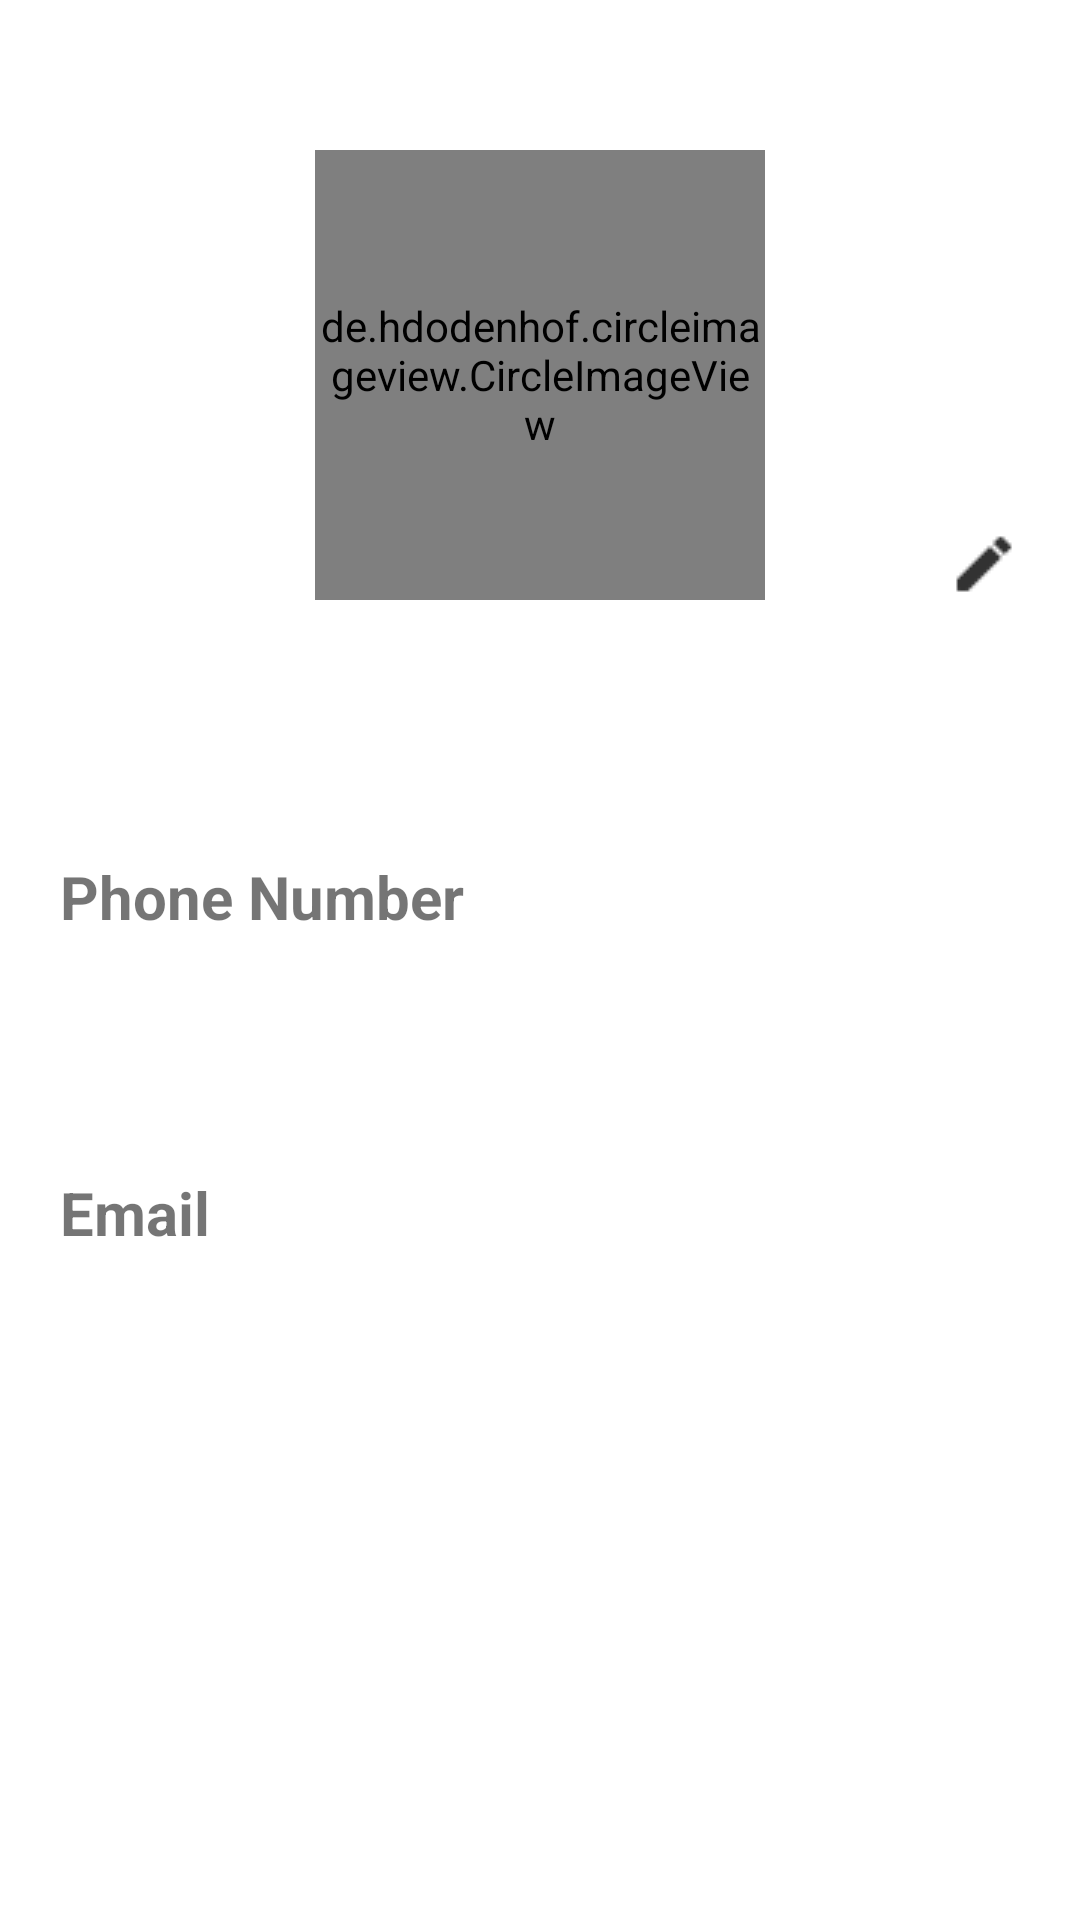

Named icons in this screenshot (1080px x 1920px) and their centers, (x,y):
rewrite: (984,564)
